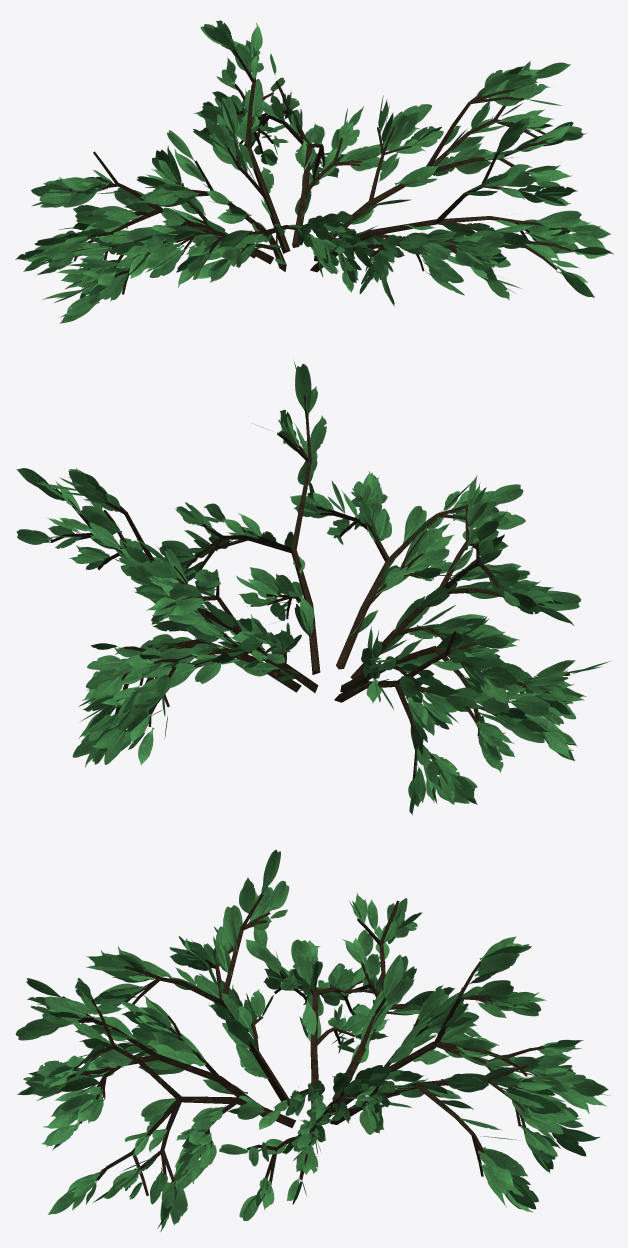
The model's file is salal_understory_v01_LOD1.glb.
3 renders of one model, top to bottom at view 1: azimuth 30°, elevation 25°; view 2: azimuth 150°, elevation 25°; view 3: azimuth 270°, elevation 25°, orthographic. The views are drawn at different scales.
Parts seen in each view (by area): view 1: salal_understory_v01_LOD1; view 2: salal_understory_v01_LOD1; view 3: salal_understory_v01_LOD1.
Boxes of the visible parts, left/top/right/bottom form: salal_understory_v01_LOD1: left=15, top=20, right=613, bottom=323; salal_understory_v01_LOD1: left=16, top=360, right=611, bottom=815; salal_understory_v01_LOD1: left=15, top=849, right=609, bottom=1231.
Size of the model in its own units: 1.77 by 0.712 by 1.58.
Materials: 2 (2 with a texture image).
